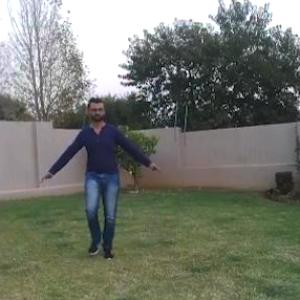land: (19, 86, 177, 295)
